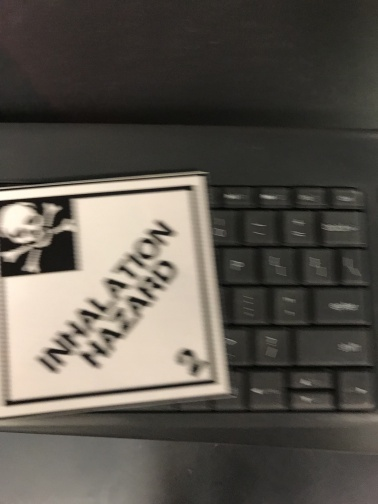InhalationHazard: (2, 172, 234, 420)
